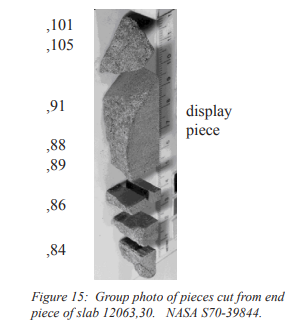Basalt: (99, 83, 171, 175), (103, 183, 163, 279), (92, 9, 174, 70)
